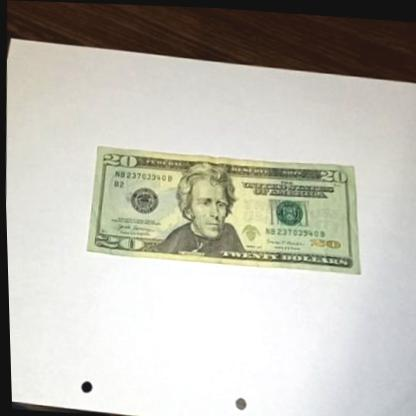twenty-front: (85, 145, 361, 275)
